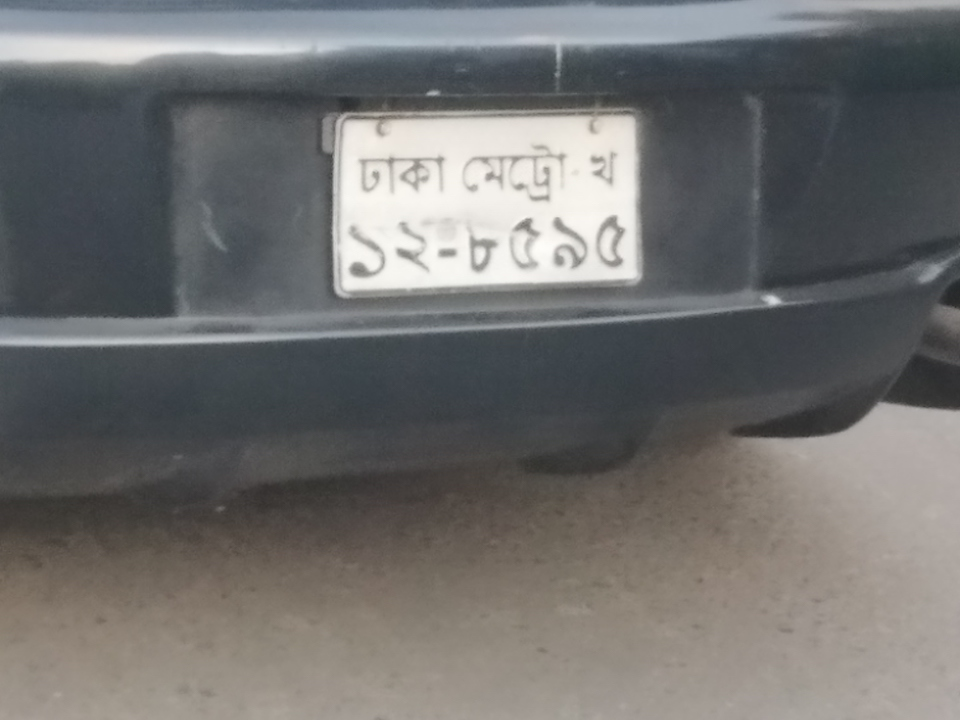registration_plate: (331, 105, 646, 300)
